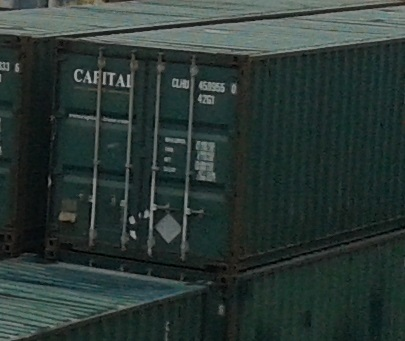container_door: (47, 29, 249, 274)
